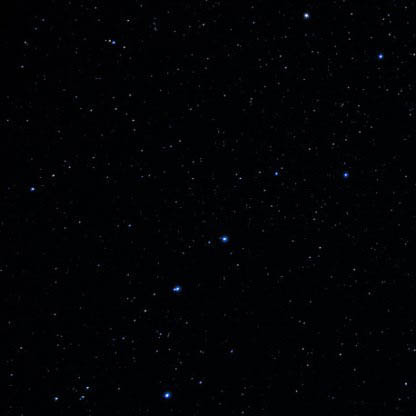Ursa Major: (157, 273, 188, 307), (261, 158, 290, 190), (214, 224, 239, 259), (369, 41, 396, 69), (152, 377, 176, 405), (336, 162, 359, 189), (297, 8, 315, 31)
